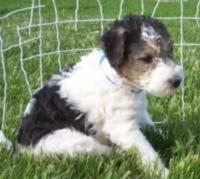wire-haired_fox_terrier: (1, 13, 185, 176)
